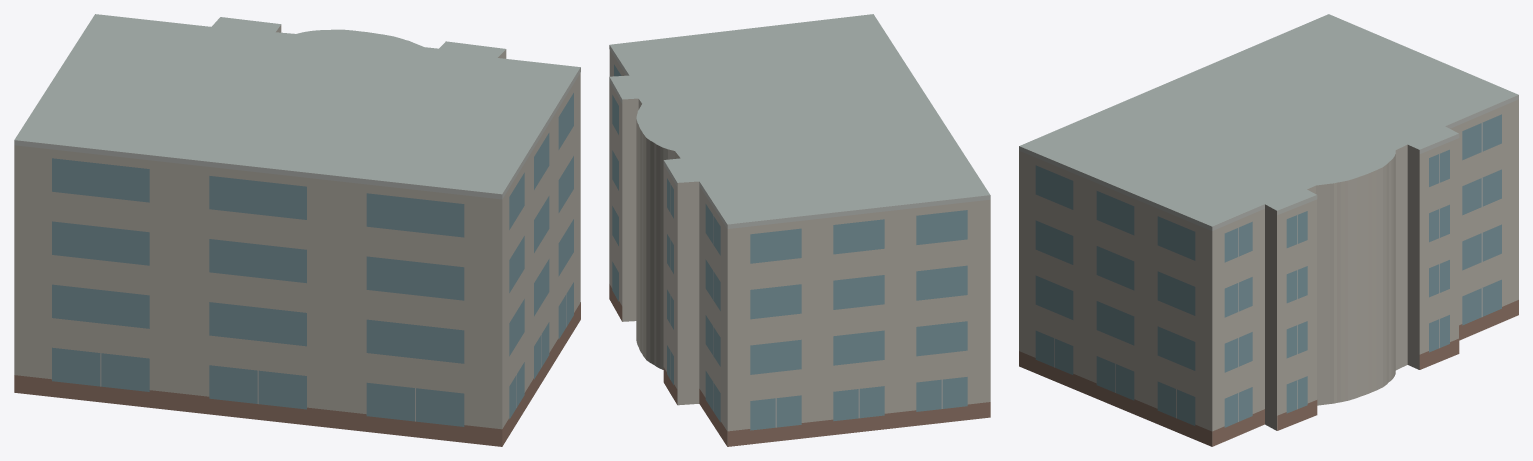
File: survey-upis-32778439.glb
3 views of the same model, side by side, from view 1: azimuth 30°, elevation 25°; view 2: azimuth 150°, elevation 25°; view 3: azimuth 270°, elevation 25° (orthographic). The views are drawn at different scales.
Visible parts, largest first — view 1: survey-upis-32778439.tmp; view 2: survey-upis-32778439.tmp; view 3: survey-upis-32778439.tmp.
Boxes of the visible parts, x1,y1,x2,y2 form: survey-upis-32778439.tmp: (14,14,580,446); survey-upis-32778439.tmp: (609,14,990,446); survey-upis-32778439.tmp: (1019,14,1518,446).
Bounding box in the file's own units: 24.64 × 11.9 × 24.48.
